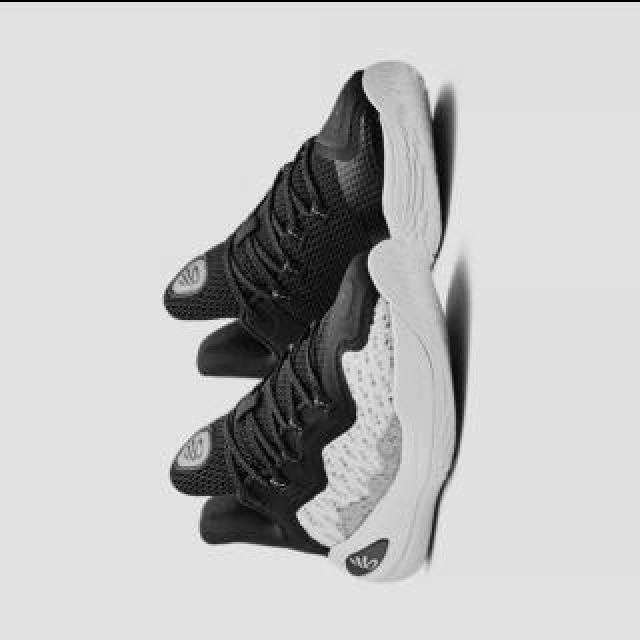shoe: (168, 237, 460, 581), (162, 60, 440, 388)
